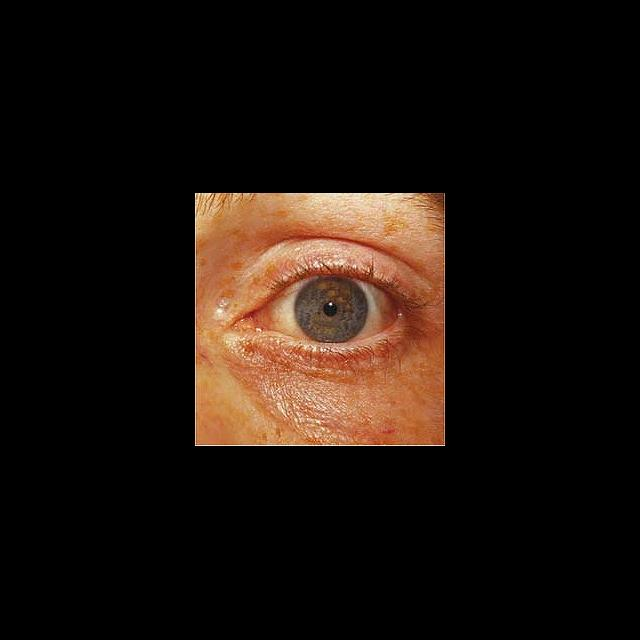eye: (267, 273, 399, 346)
iris: (295, 276, 369, 343)
